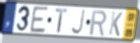3: (15, 5, 31, 34)
E: (29, 5, 50, 34)
J: (70, 8, 86, 36)
K: (108, 10, 123, 38)
R: (89, 9, 108, 37)
T: (55, 8, 68, 34)
